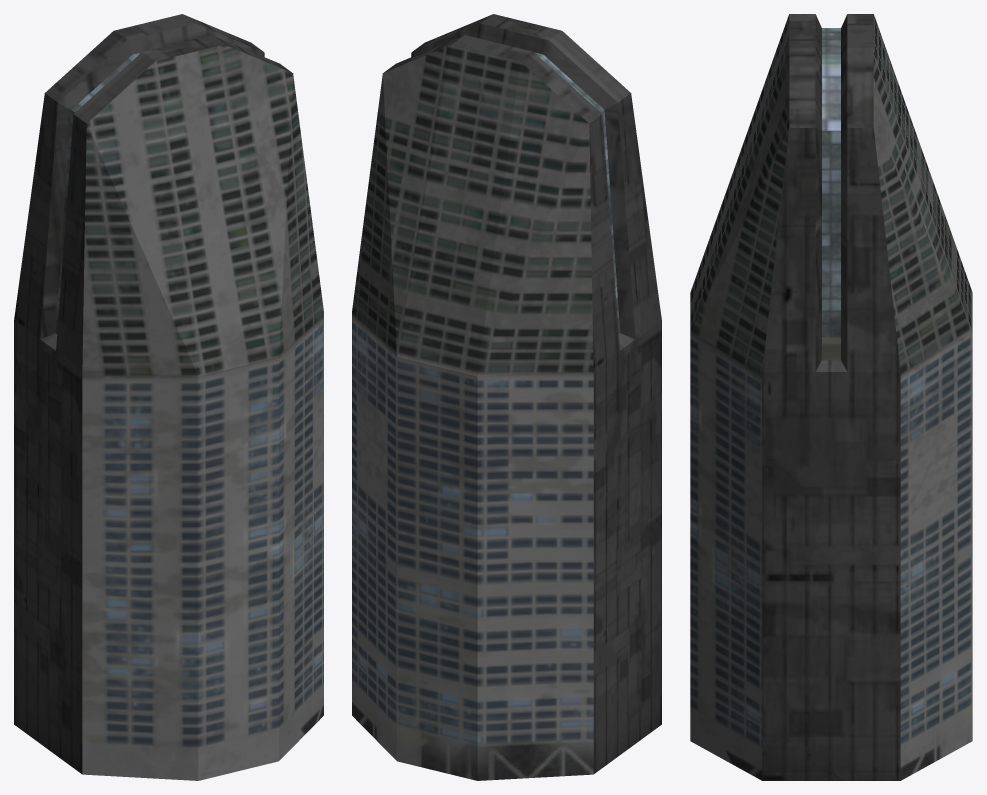
File: scifi_building_29.obj
The picture shows the model from 3 angles, left to right: view 1: azimuth 30°, elevation 25°; view 2: azimuth 150°, elevation 25°; view 3: azimuth 270°, elevation 25°; orthographic projection.
Visible parts, largest first — view 1: building_29; view 2: building_29; view 3: building_29.
Part boxes in pixels (bbox=[...]): building_29: bbox=[14, 14, 323, 780]; building_29: bbox=[352, 14, 661, 780]; building_29: bbox=[690, 14, 972, 780].
Bounding box in the file's own units: 71.24 × 192 × 71.24.
Materials: 1 (1 with a texture image).
